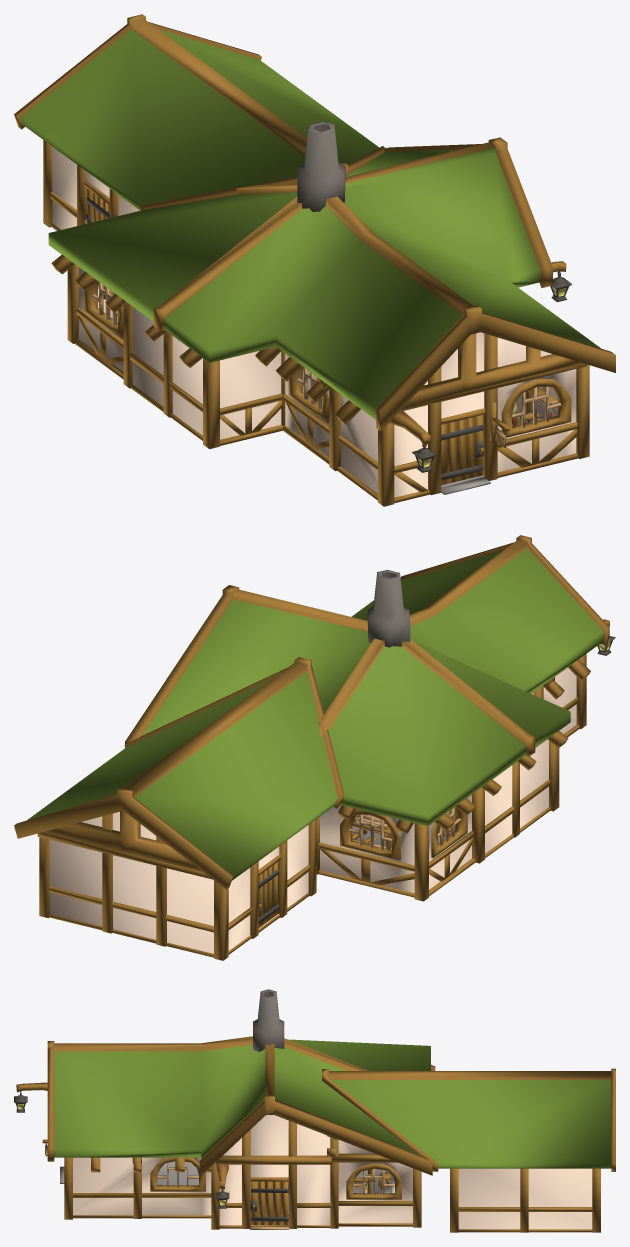
File: SHOP_Cloth_decoSTORE.fbx
3 renders of one model, top to bottom at view 1: azimuth 30°, elevation 25°; view 2: azimuth 150°, elevation 25°; view 3: azimuth 270°, elevation 25°, orthographic. The views are drawn at different scales.
Visible parts, largest first — view 1: Empty_Mesh, Empty_Mesh_1; view 2: Empty_Mesh, Empty_Mesh_1, Empty_Mesh_2; view 3: Empty_Mesh, Empty_Mesh_1, Empty_Mesh_2.
Boxes of the visible parts, x1,y1,x2,y2 form: Empty_Mesh: (14,14,615,506); Empty_Mesh_1: (84,189,483,485); Empty_Mesh: (14,535,615,960); Empty_Mesh_1: (258,862,279,927); Empty_Mesh_2: (352,810,455,849); Empty_Mesh: (14,989,615,1232); Empty_Mesh_1: (250,1181,288,1224); Empty_Mesh_2: (288,1169,394,1193).
Size of the model in its own units: 66.69 by 42.41 by 127.
